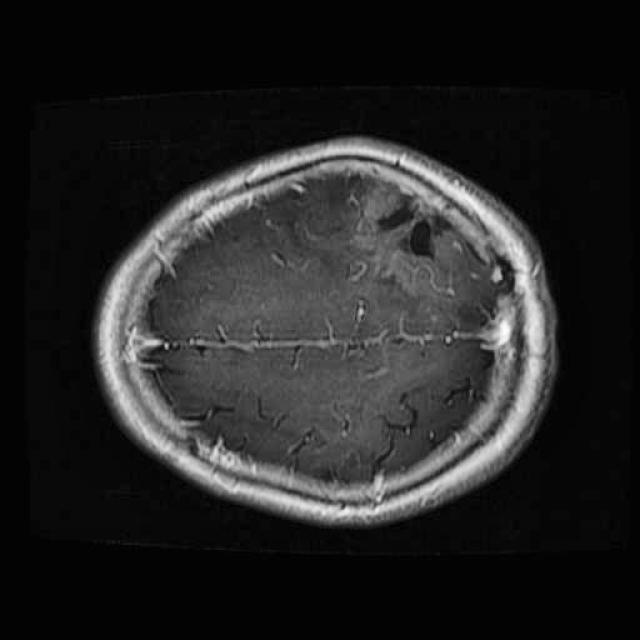Non-Tumor: (350, 170, 475, 296)
